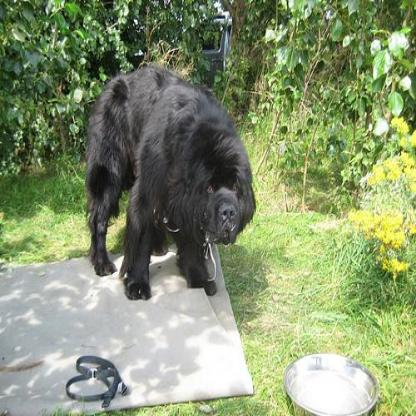Newfoundland: (86, 61, 254, 302)
